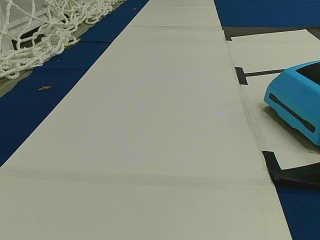car: (264, 55, 317, 145)
